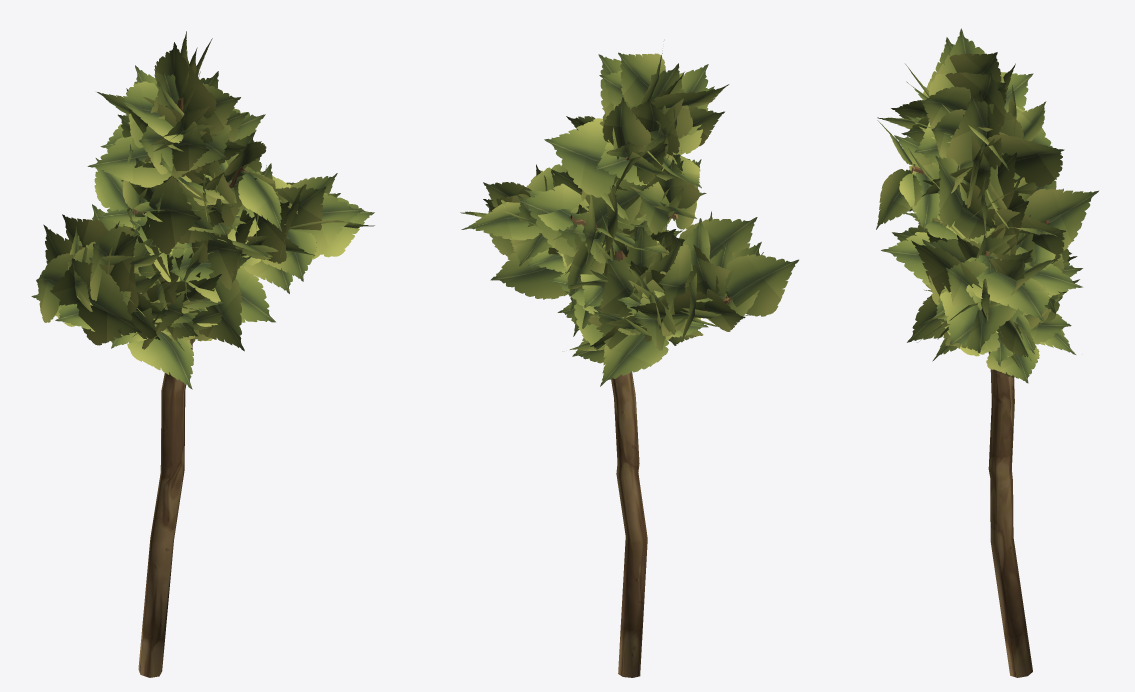
Rendered from 3D_Tree.fbx.
3 views of the same model, side by side, from view 1: azimuth 30°, elevation 25°; view 2: azimuth 150°, elevation 25°; view 3: azimuth 270°, elevation 25° (orthographic). The views are drawn at different scales.
Visible parts, largest first — view 1: Tronc, Plane.043, Plane.229, Plane.033, Plane.209, Plane.235, Plane.002, Plane.161, Plane.112, Plane.149, Plane.060, Plane.151 (+22 smaller); view 2: Tronc, Plane.021, Plane.165, Plane.125, Plane.172, Plane.192, Plane.020, Plane.241, Plane.183, Plane.170, Plane.246, Plane.240 (+22 smaller); view 3: Tronc, Plane.199, Plane.165, Plane.183, Plane.163, Plane.148, Plane.146, Plane.161, Plane.071, Plane.111, Plane.147, Plane.192 (+27 smaller).
Boxes of the visible parts, x1=… form: Tronc: x1=138, y1=339, x2=192, y2=677; Plane.043: x1=77, y1=270, x2=141, y2=345; Plane.229: x1=143, y1=176, x2=201, y2=254; Plane.033: x1=127, y1=332, x2=193, y2=389; Plane.209: x1=87, y1=135, x2=171, y2=187; Plane.235: x1=154, y1=42, x2=216, y2=118; Plane.002: x1=199, y1=271, x2=244, y2=351; Plane.161: x1=238, y1=169, x2=282, y2=231; Plane.112: x1=120, y1=81, x2=183, y2=143; Plane.149: x1=288, y1=193, x2=363, y2=259; Plane.060: x1=197, y1=266, x2=275, y2=326; Plane.151: x1=275, y1=186, x2=326, y2=230; Tronc: x1=611, y1=371, x2=647, y2=677; Plane.021: x1=724, y1=254, x2=798, y2=316; Plane.165: x1=544, y1=118, x2=618, y2=197; Plane.125: x1=600, y1=333, x2=668, y2=386; Plane.172: x1=490, y1=249, x2=567, y2=299; Plane.192: x1=519, y1=183, x2=582, y2=256; Plane.020: x1=618, y1=52, x2=665, y2=106; Plane.241: x1=679, y1=217, x2=757, y2=259; Plane.183: x1=461, y1=202, x2=542, y2=240; Plane.170: x1=602, y1=97, x2=650, y2=157; Plane.246: x1=600, y1=258, x2=635, y2=313; Plane.240: x1=658, y1=244, x2=691, y2=315; Tronc: x1=988, y1=351, x2=1032, y2=677; Plane.199: x1=1024, y1=188, x2=1098, y2=250; Plane.165: x1=988, y1=134, x2=1064, y2=186; Plane.183: x1=971, y1=271, x2=1049, y2=321; Plane.163: x1=946, y1=96, x2=1023, y2=165; Plane.148: x1=940, y1=291, x2=999, y2=352; Plane.146: x1=911, y1=240, x2=981, y2=296; Plane.161: x1=876, y1=168, x2=922, y2=229; Plane.071: x1=935, y1=156, x2=963, y2=227; Plane.111: x1=945, y1=72, x2=1005, y2=130; Plane.147: x1=945, y1=304, x2=1016, y2=352; Plane.192: x1=994, y1=208, x2=1065, y2=263.
Size of the model in its own units: 575 by 968 by 355.
